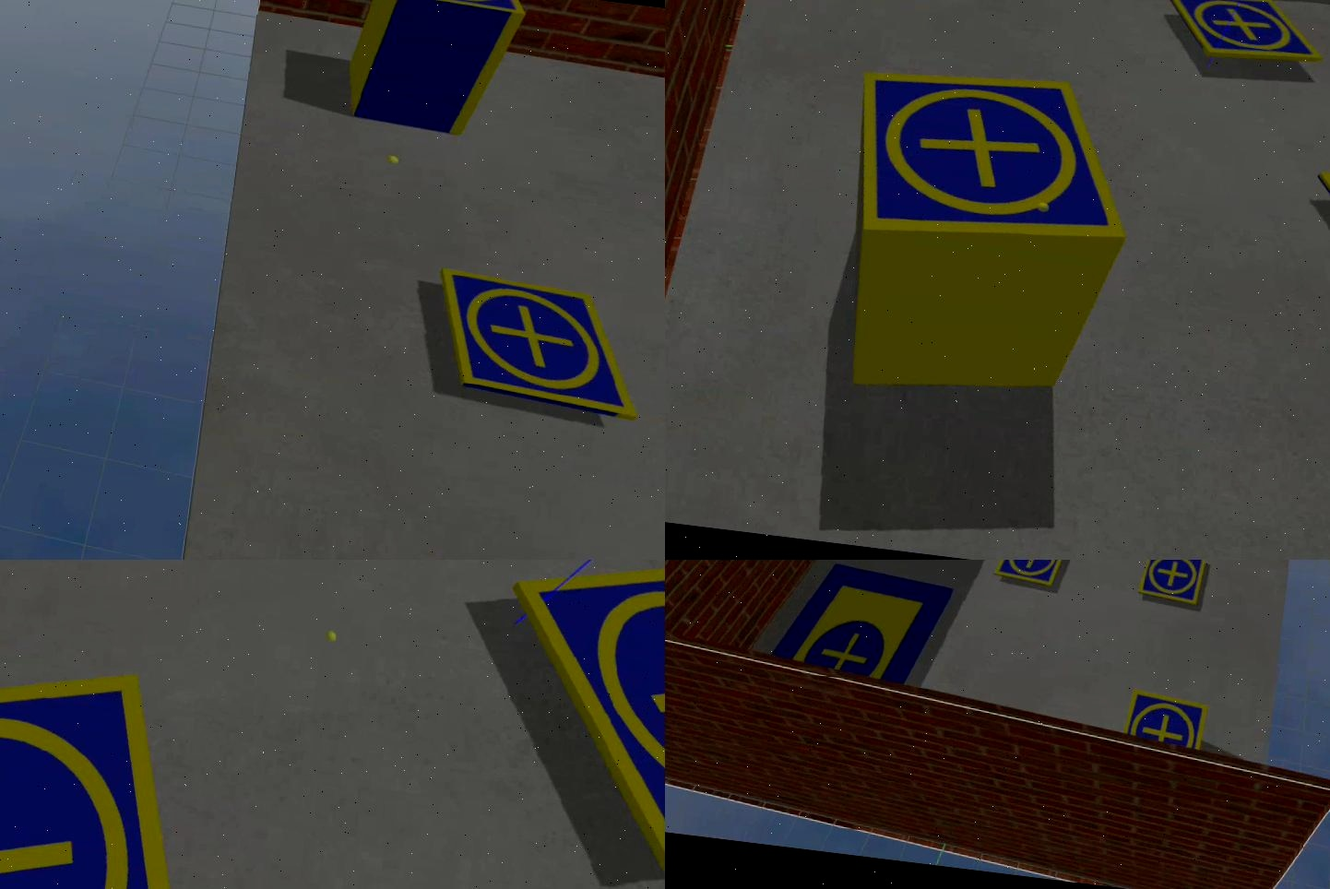large_base: (768, 561, 956, 690)
small_base: (845, 59, 1144, 262), (481, 561, 666, 886), (1, 634, 210, 889), (428, 266, 654, 421), (1164, 1, 1325, 71), (1125, 691, 1210, 751), (1138, 561, 1208, 606), (393, 1, 530, 19), (994, 561, 1070, 590)
